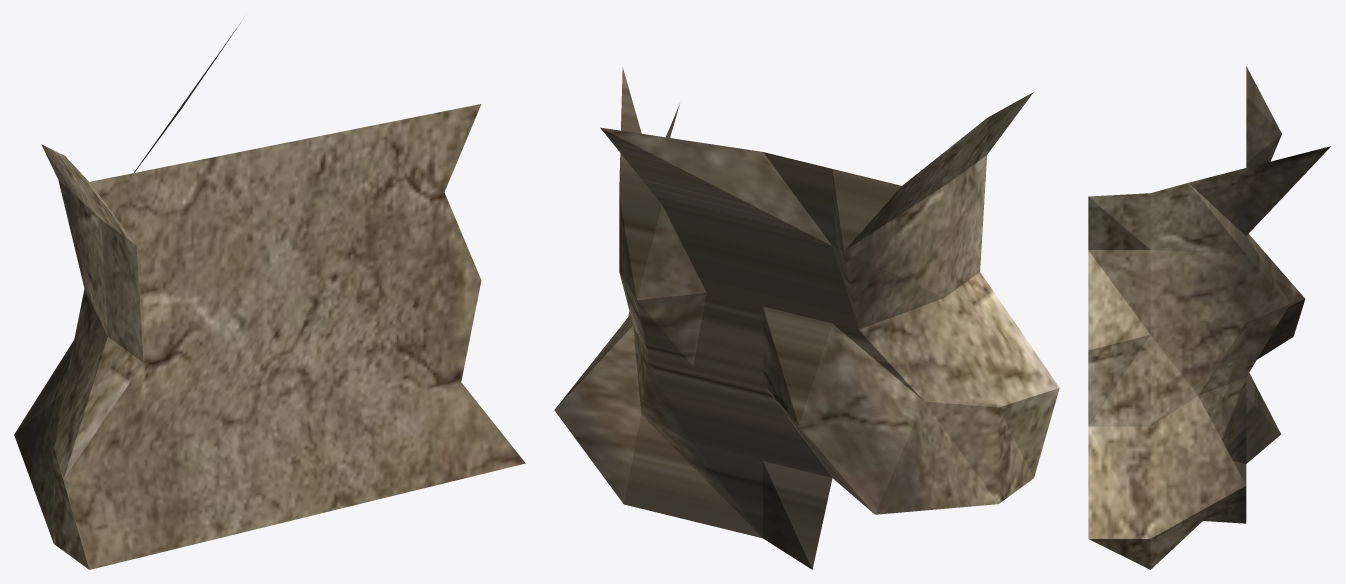
3 renders of one model, left to right at view 1: azimuth 30°, elevation 25°; view 2: azimuth 150°, elevation 25°; view 3: azimuth 270°, elevation 25°, orthographic. The views are drawn at different scales.
Visible parts, largest first — view 1: model_Object43; view 2: model_Object43; view 3: model_Object43.
Part boxes in pixels (bbox=[...]): model_Object43: bbox=[14, 23, 525, 569]; model_Object43: bbox=[554, 67, 1059, 569]; model_Object43: bbox=[1088, 66, 1330, 569].
Bounding box in the file's own units: 5.01 × 4.56 × 2.61.
1 material, 1 textured.
